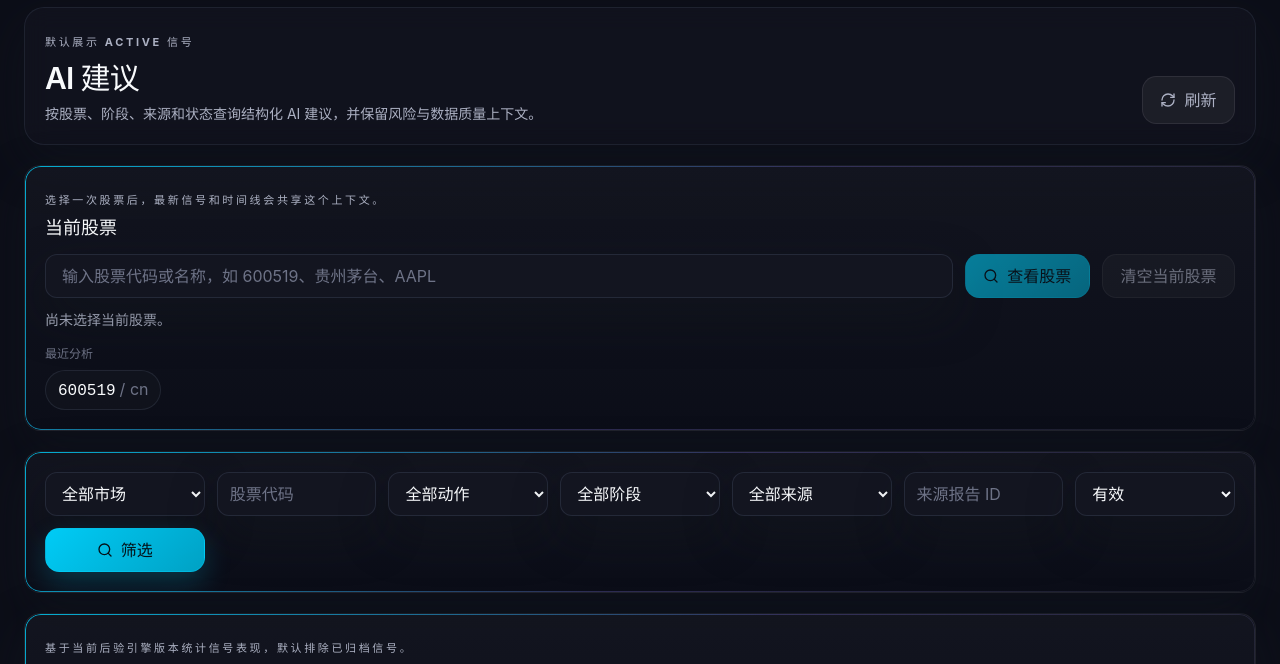
Scenario: DecisionSignalsPage › ignores stale latest-search responses
Type "600519" into the dropdown named "当前股票". click: coordinates (499, 276)
box: [45,254,953,298]
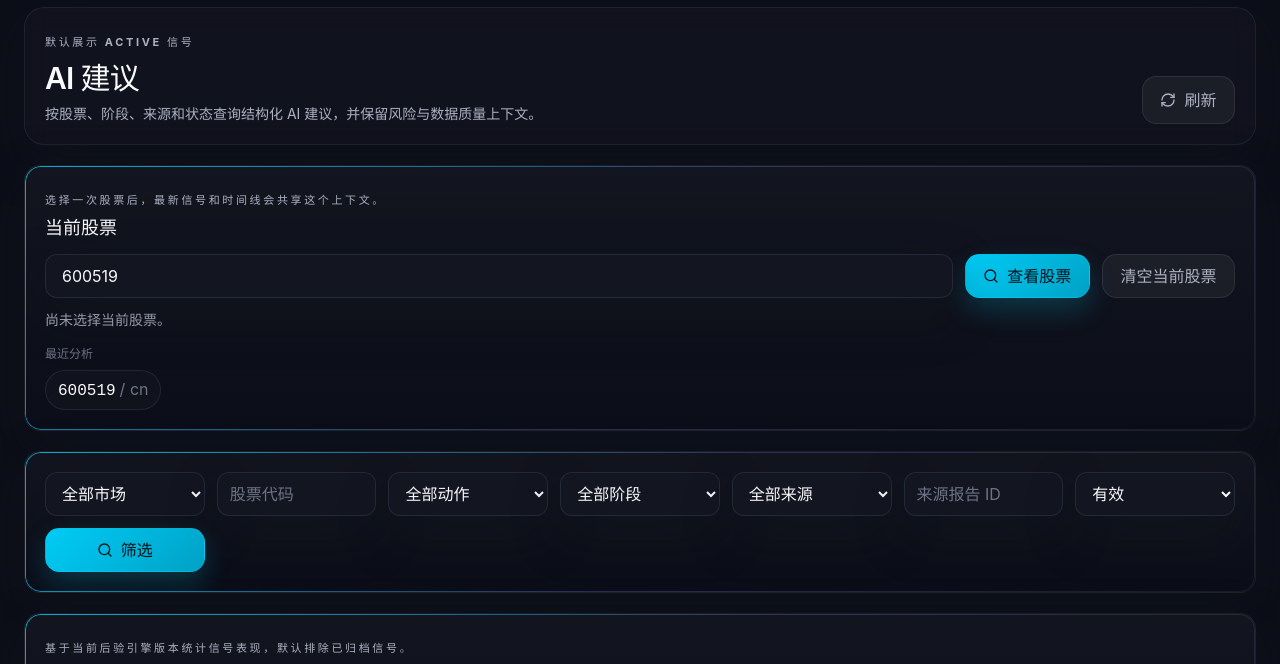
Click the button "查看股票". click: coordinates (1027, 276)
box: [965,254,1090,298]
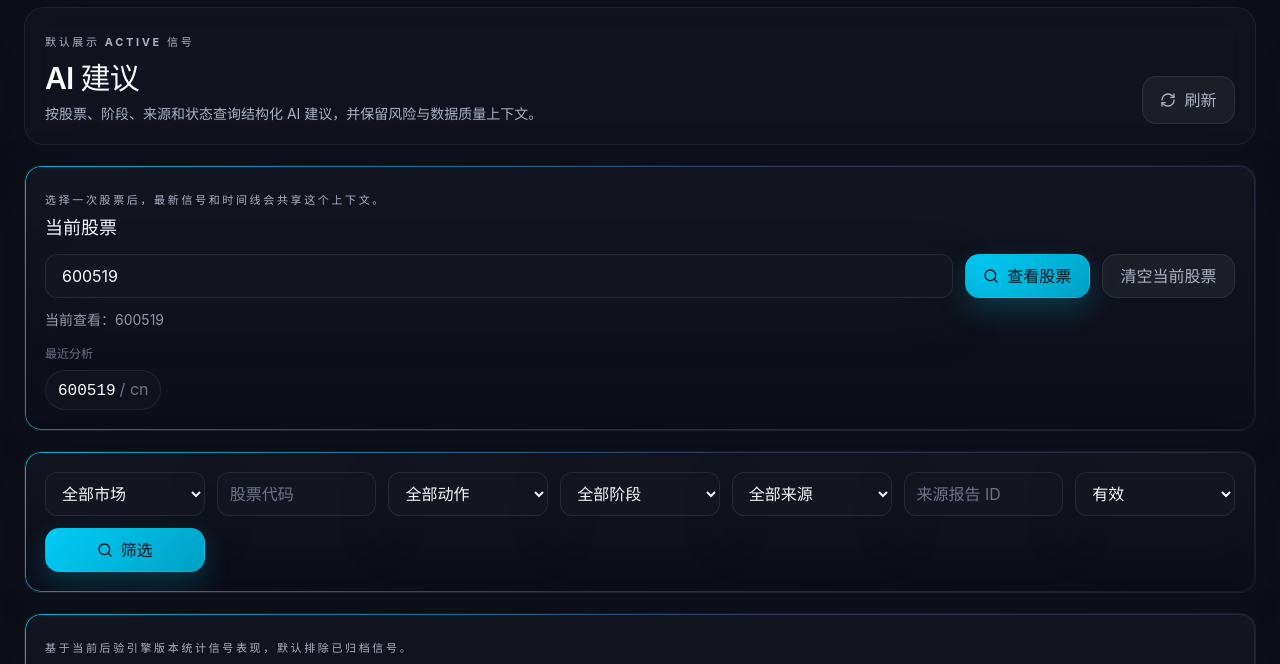
Replace the text in the dropdown named "当前股票" with "AAPL". click: coordinates (499, 276)
box: [45,254,953,298]
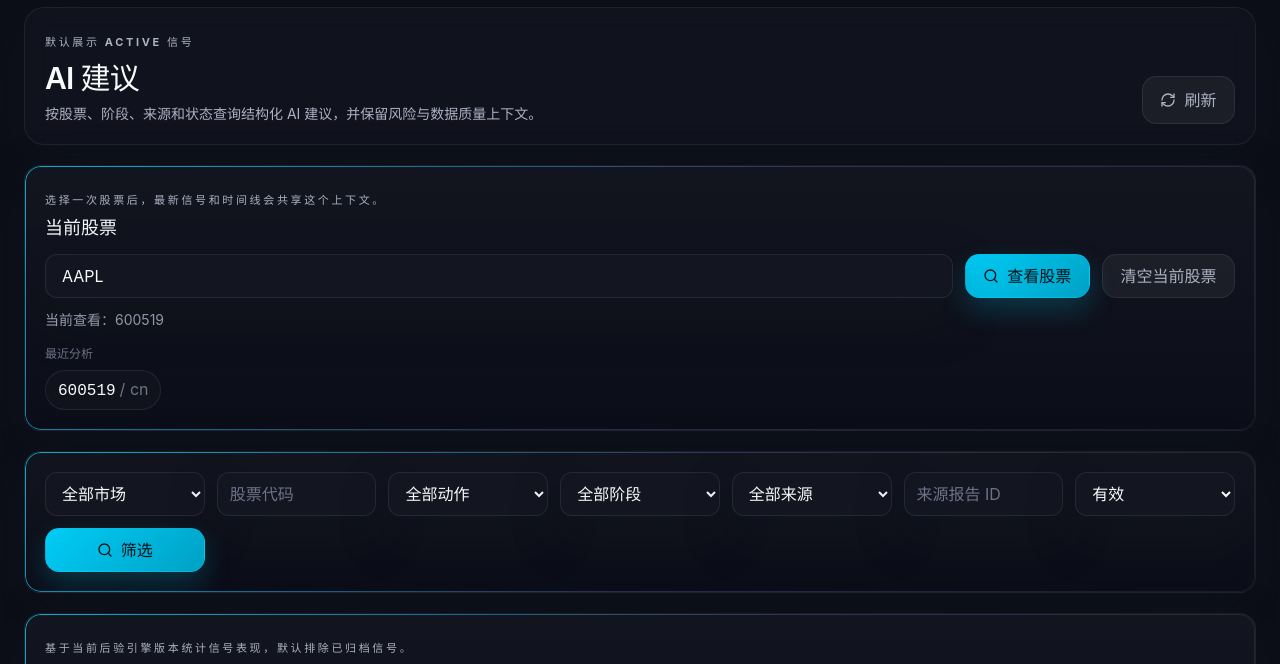
Click the button "查看股票". click: coordinates (1027, 276)
box: [965,254,1090,298]
(page scrolled)
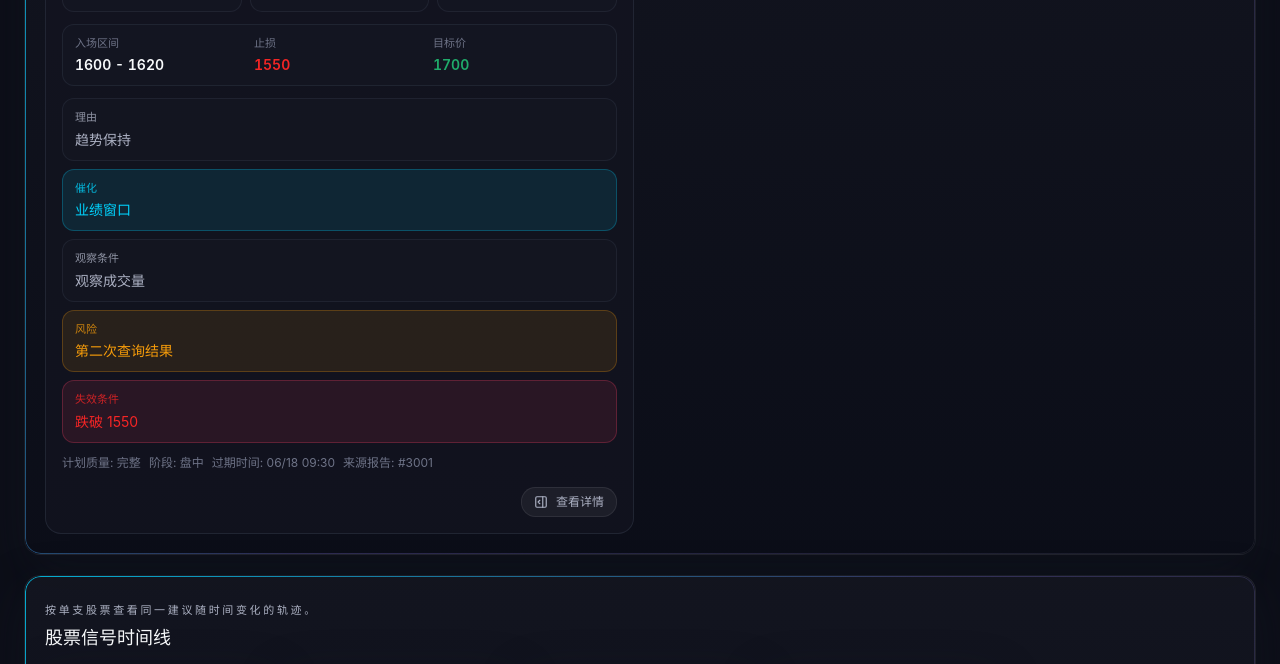
Expected: the text "第二次查询结果" is shown, [75,342,173,359]
